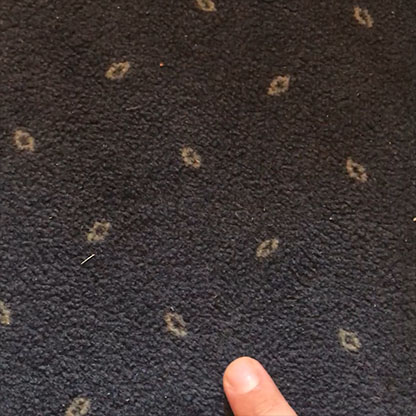fingertip: (206, 347, 287, 409)
